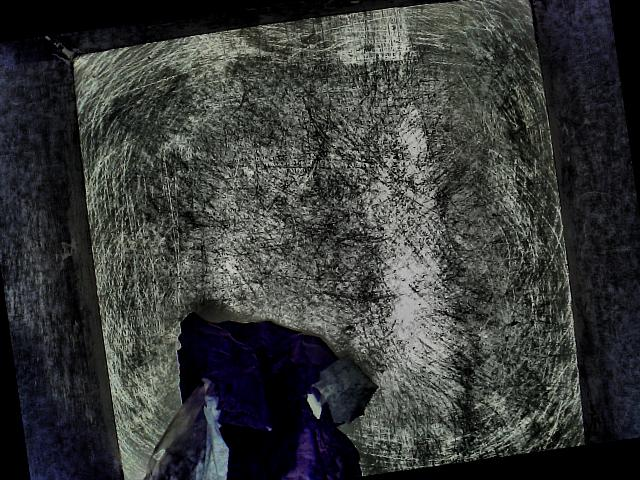Paper: (78, 284, 396, 480)
